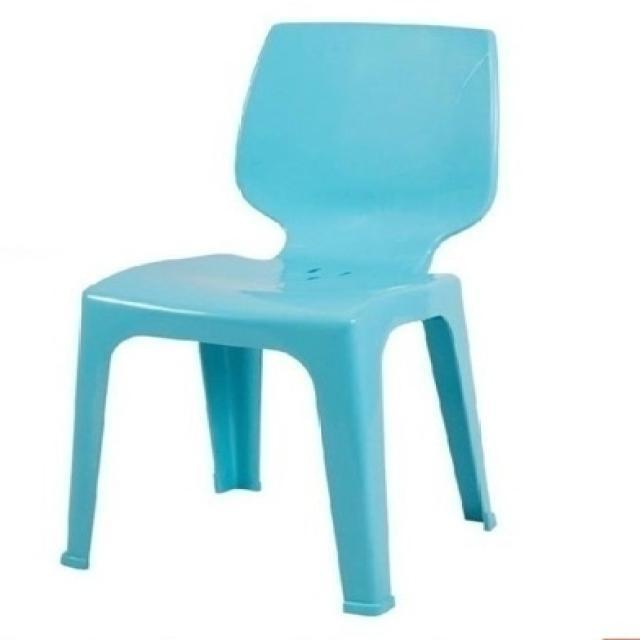chair: (55, 15, 508, 618)
